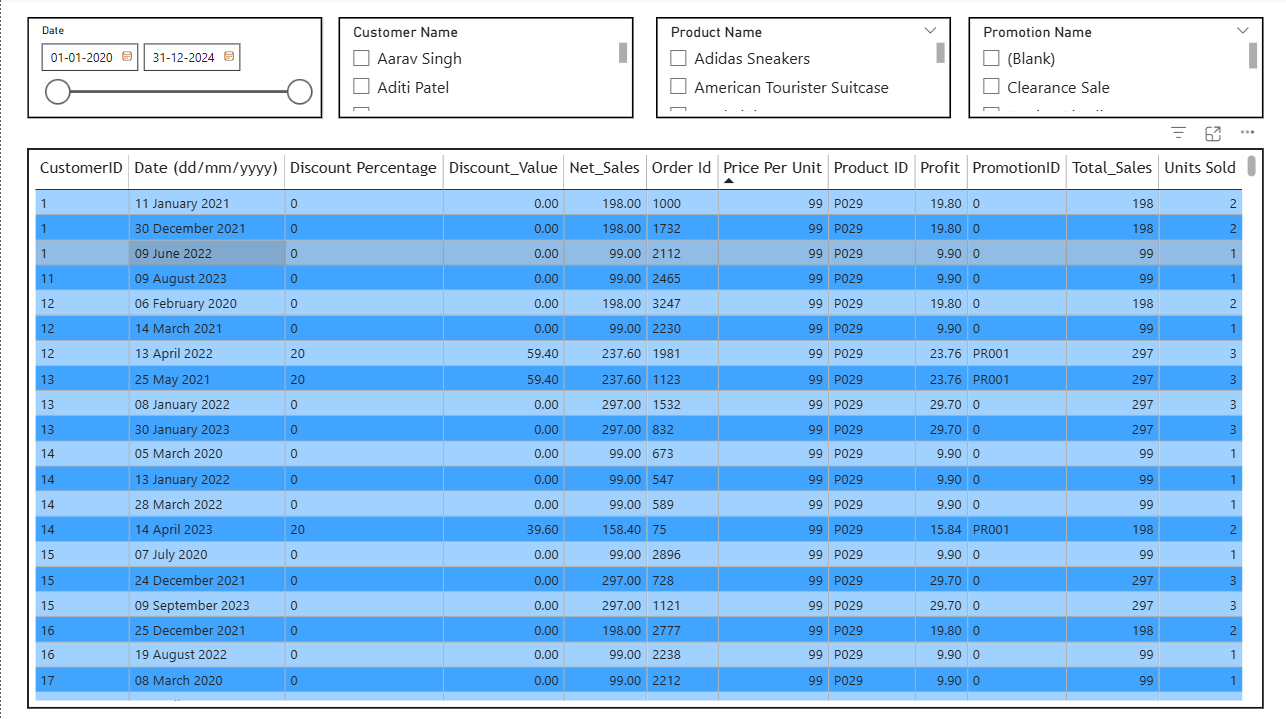

The page's visual inventory and layout, read from the dashboard file:
{"tool":"powerbi","page":{"name":"Page 4","canvas":[1280,720],"ordinal":3},"visuals":[{"type":"tableEx","fields":{"Values":["Fact Table.CustomerID","Fact Table.Date (dd/mm/yyyy)","Fact Table.Discount Percentage","Fact Table.Discount_Value","Fact Table.Net_Sales","Fact Table.Order Id","Fact Table.Price Per Unit","Fact Table.Product ID","Fact Table.Profit","Fact Table.PromotionID","Fact Table.Total_Sales","Fact Table.Units Sold"]},"box":[26.1,150.5,1230.3,557.3],"z":0},{"type":"slicer","fields":{"Values":["Date Table 1.Date"]},"box":[26.1,19.9,293.6,100.8],"z":1},{"type":"slicer","fields":{"Values":["Dim Customers.Customer Name"]},"box":[335.9,19.9,293.6,100.8],"z":2},{"type":"slicer","fields":{"Values":["Dim Product.Product Name"]},"box":[651.8,19.9,293.6,100.8],"z":3},{"type":"slicer","fields":{"Values":["Dim Promotion.Promotion Name"]},"box":[962.8,19.9,293.6,100.8],"z":4}]}

Visuals, with their boxes in screenshot pixels (x1, y1, x2, y2):
tableEx - Fact Table.CustomerID x Fact Table.Date (dd/mm/yyyy): [x1=26, y1=145, x2=1239, y2=695]
slicer - Date Table 1.Date: [x1=26, y1=16, x2=315, y2=116]
slicer - Dim Customers.Customer Name: [x1=331, y1=16, x2=621, y2=116]
slicer - Dim Product.Product Name: [x1=643, y1=16, x2=932, y2=116]
slicer - Dim Promotion.Promotion Name: [x1=950, y1=16, x2=1239, y2=116]
